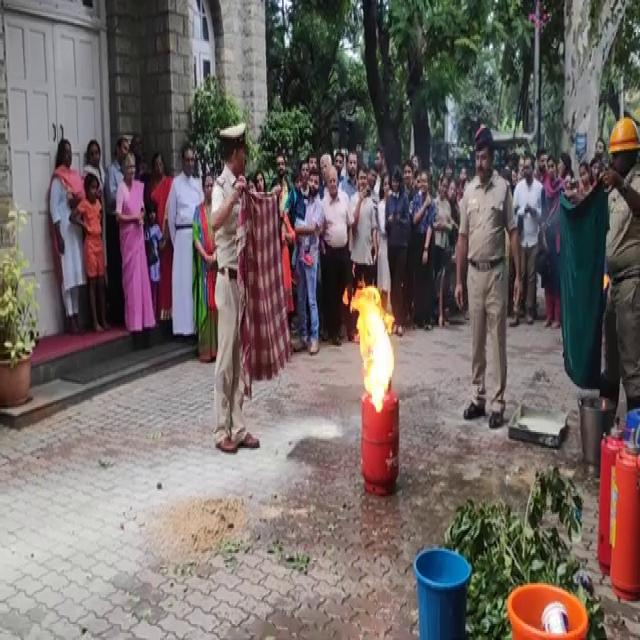fire: (331, 272, 406, 416)
